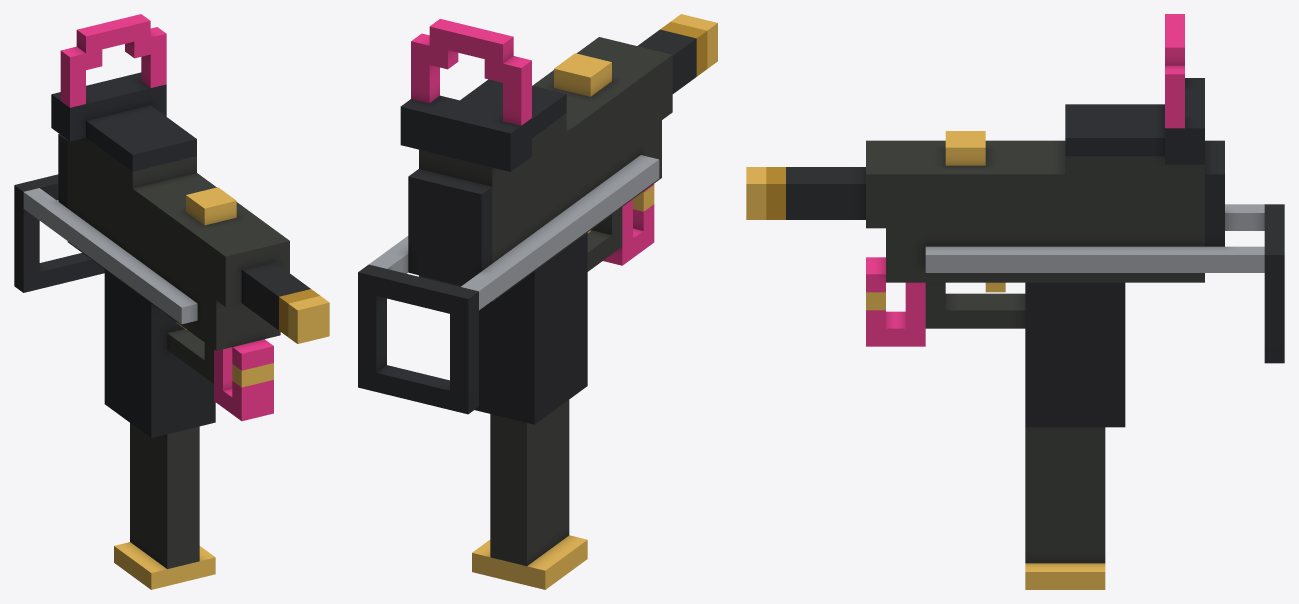
The model's file is smg.glb.
3 renders of one model, left to right at view 1: azimuth 30°, elevation 25°; view 2: azimuth 150°, elevation 25°; view 3: azimuth 270°, elevation 25°, orthographic. The views are drawn at different scales.
Parts seen in each view (by area): view 1: smg_body; view 2: smg_body; view 3: smg_body.
Boxes of the visible parts, box(x1,y1,x2,y2) form: smg_body: box(14, 14, 329, 589); smg_body: box(358, 14, 717, 589); smg_body: box(746, 14, 1284, 589).
Size of the model in its own units: 0.2344 by 1.17 by 1.05.
Materials: 1 (1 with a texture image).
